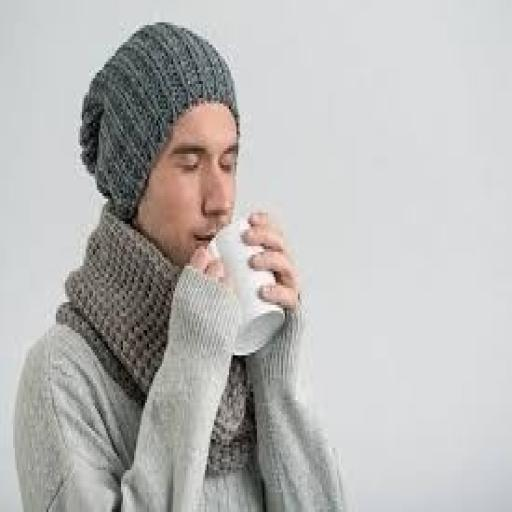drinking: (203, 213, 285, 358)
